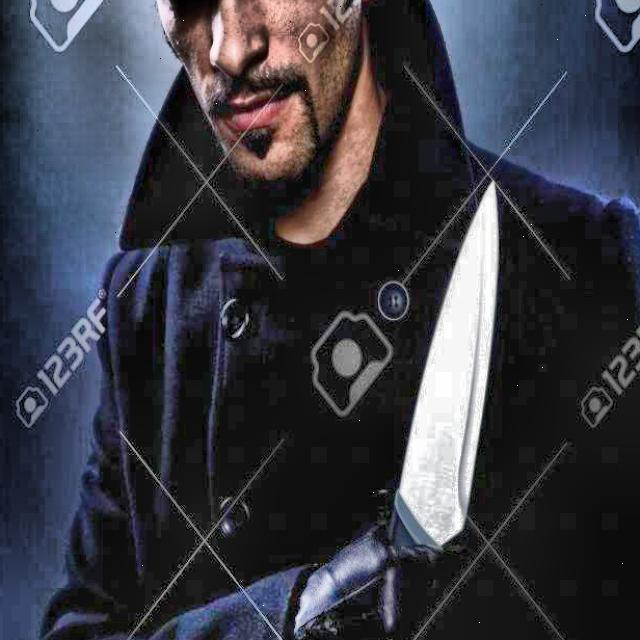knife: (386, 181, 500, 552)
